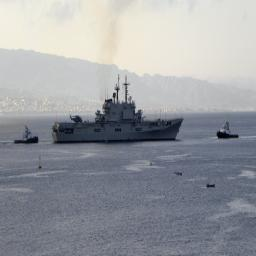Portanaves: (52, 73, 185, 148)
